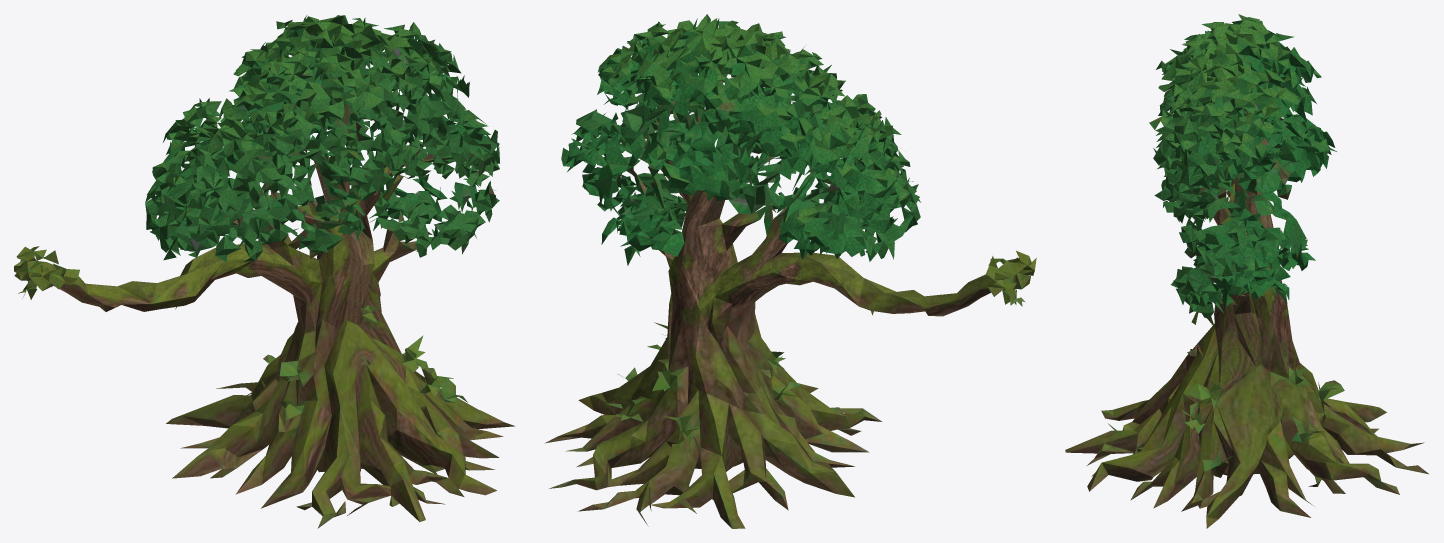
Rendered from BranchTree.fbx.
3 renders of one model, left to right at view 1: azimuth 30°, elevation 25°; view 2: azimuth 150°, elevation 25°; view 3: azimuth 270°, elevation 25°, orthographic. The views are drawn at different scales.
Parts seen in each view (by area): view 1: BranchTree; view 2: BranchTree; view 3: BranchTree.
Boxes of the visible parts, x1=… form: BranchTree: x1=14, y1=15, x2=515, y2=528; BranchTree: x1=545, y1=14, x2=1036, y2=528; BranchTree: x1=1065, y1=14, x2=1428, y2=528.
Bounding box in the file's own units: 2 × 1.76 × 1.38.
Materials: 1 (1 with a texture image).
